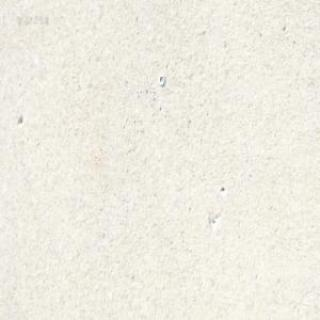Washertrack_idkeyframe: (158, 73, 165, 86)
